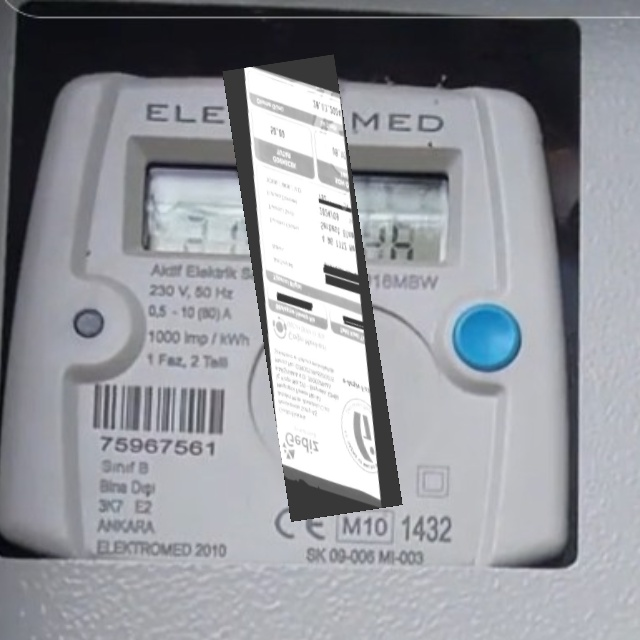electricity-bill: (221, 54, 403, 522)
